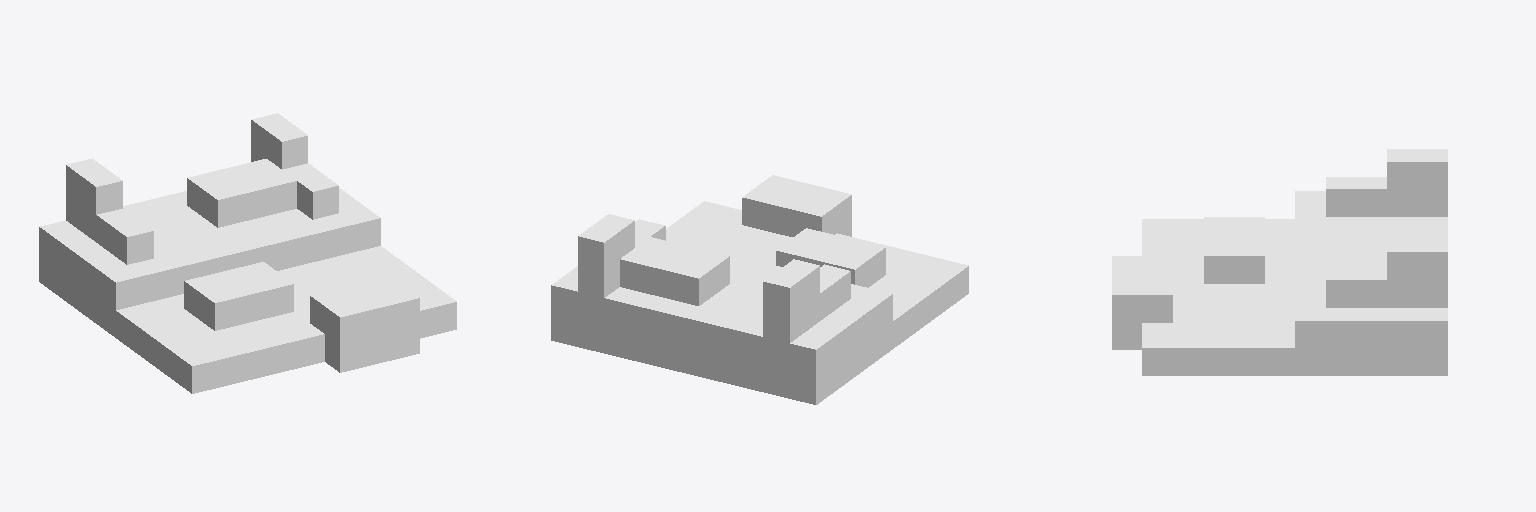
Rendered from TallBuilding03-8.obj.
3 renders of one model, left to right at view 1: azimuth 30°, elevation 25°; view 2: azimuth 150°, elevation 25°; view 3: azimuth 270°, elevation 25°, orthographic.
Parts seen in each view (by area): view 1: object 1; view 2: object 1; view 3: object 1.
Part boxes in pixels (x1,y1,x2,y2): object 1: (39, 113, 456, 393); object 1: (551, 175, 968, 404); object 1: (1112, 149, 1447, 375).
Size of the model in its own units: 1 by 0.4 by 1.1.